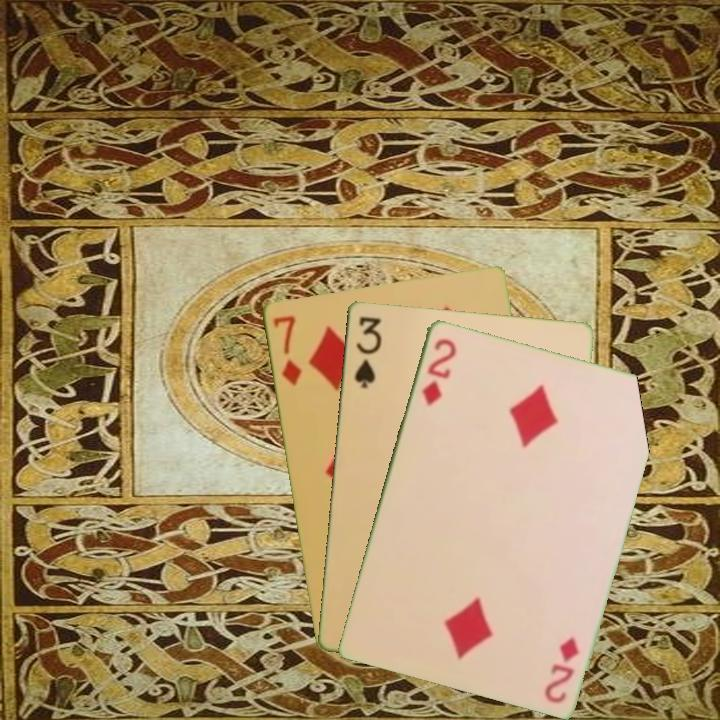2d: (418, 334, 459, 408), (541, 633, 582, 706)
3s: (351, 312, 383, 391)
7d: (269, 311, 304, 388)
